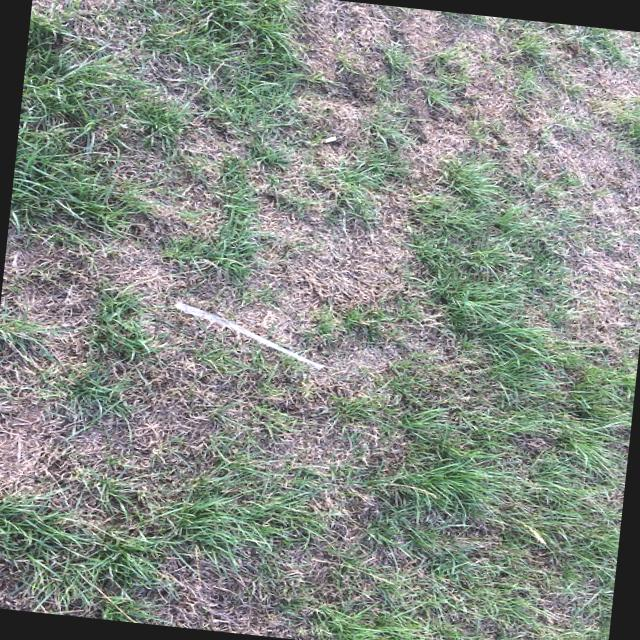Trash: (168, 302, 334, 374)
